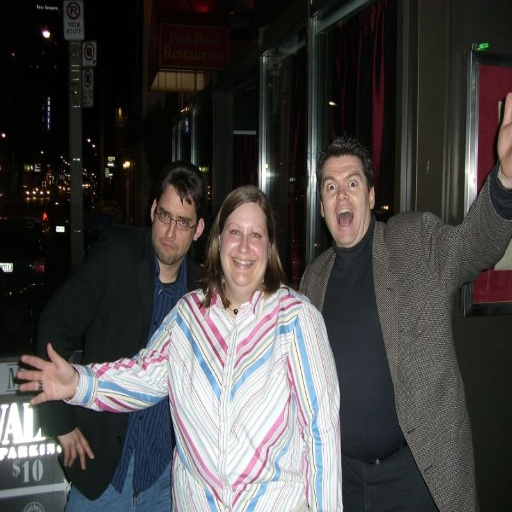hand: (25, 349, 78, 416), (56, 428, 95, 469), (494, 90, 511, 179)
